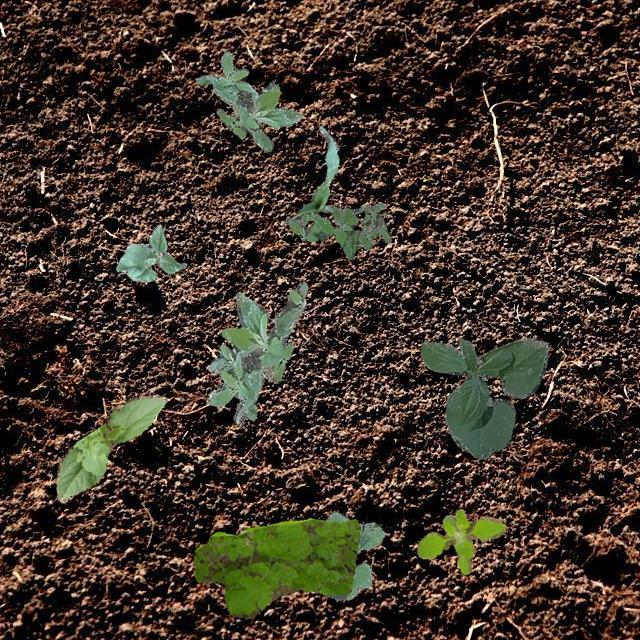crop: (420, 337, 548, 458), (54, 393, 164, 502), (290, 126, 362, 220), (114, 223, 186, 280)
weed: (192, 518, 360, 618), (206, 280, 306, 422), (194, 51, 300, 150), (284, 202, 390, 258), (416, 508, 504, 574), (324, 511, 384, 598)
